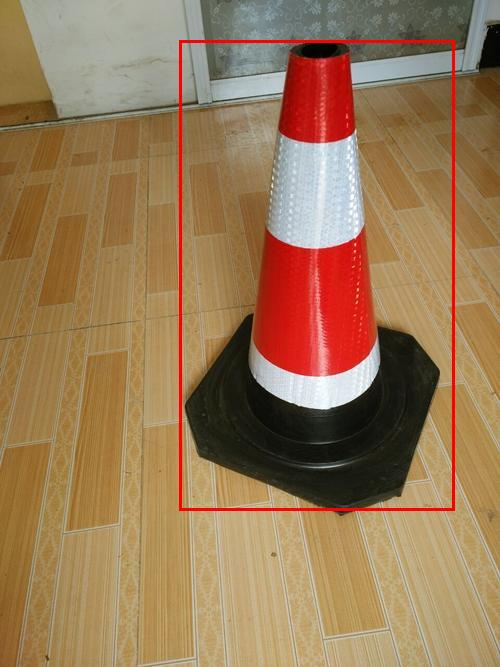traffic_cone: (188, 26, 456, 522)
